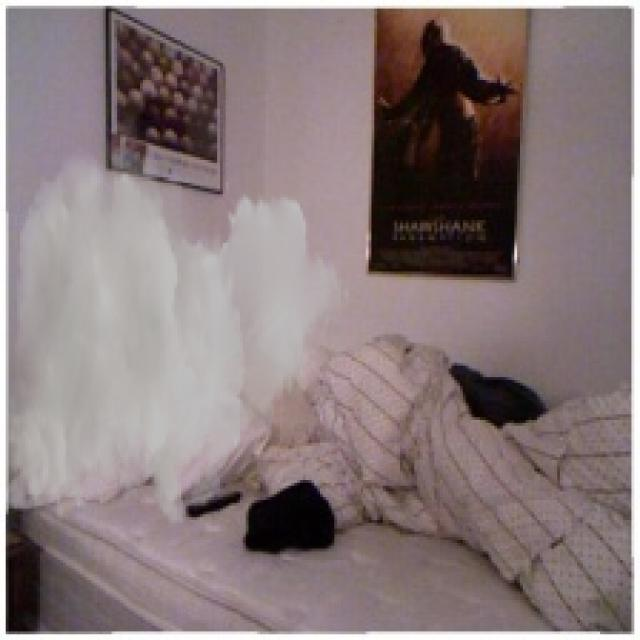smoke: (6, 103, 351, 528)
